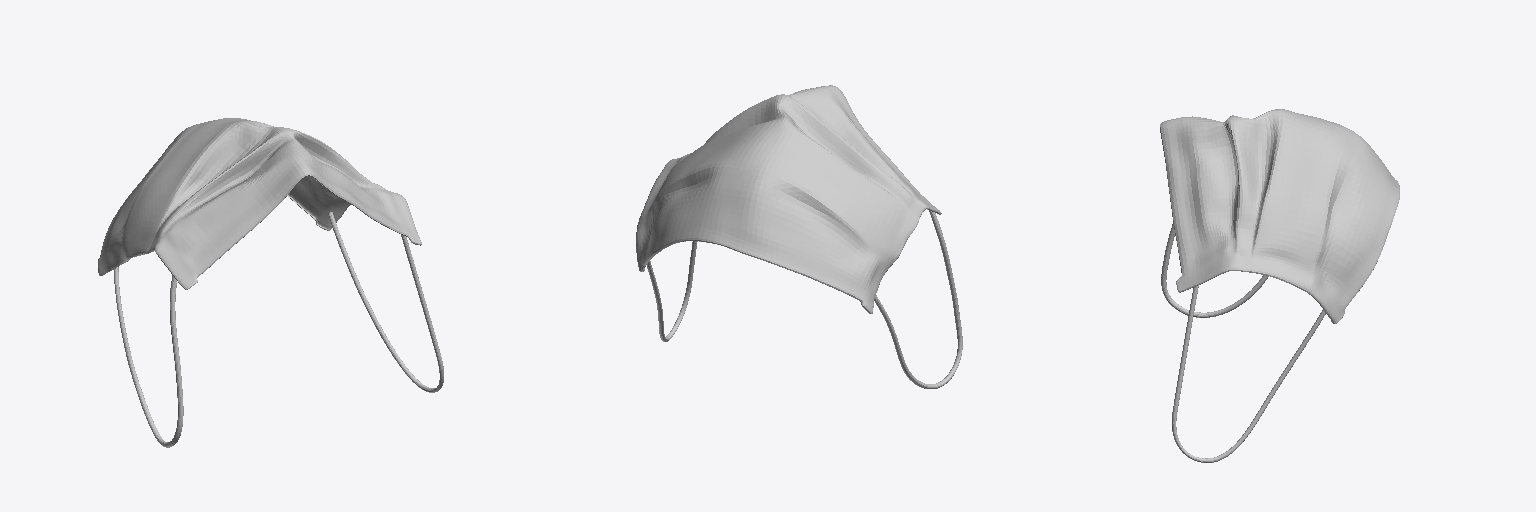
File: face-mask-dblsided.obj
3 renders of one model, left to right at view 1: azimuth 30°, elevation 25°; view 2: azimuth 150°, elevation 25°; view 3: azimuth 270°, elevation 25°, orthographic.
Parts seen in each view (by area): view 1: FaceMask_Main_Mesh; view 2: FaceMask_Main_Mesh; view 3: FaceMask_Main_Mesh.
Boxes of the visible parts, x1=… form: FaceMask_Main_Mesh: x1=98, y1=118, x2=443, y2=447; FaceMask_Main_Mesh: x1=636, y1=85, x2=962, y2=388; FaceMask_Main_Mesh: x1=1160, y1=109, x2=1399, y2=462.
Size of the model in its own units: 2.44 by 2.4 by 1.85.